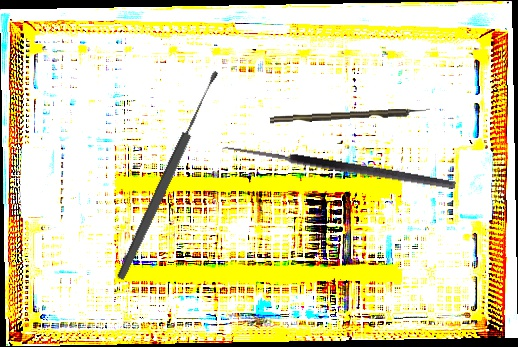Hook Surgical: (219, 141, 457, 202), (269, 107, 431, 124)
Surgical Spoon: (113, 68, 224, 283)
